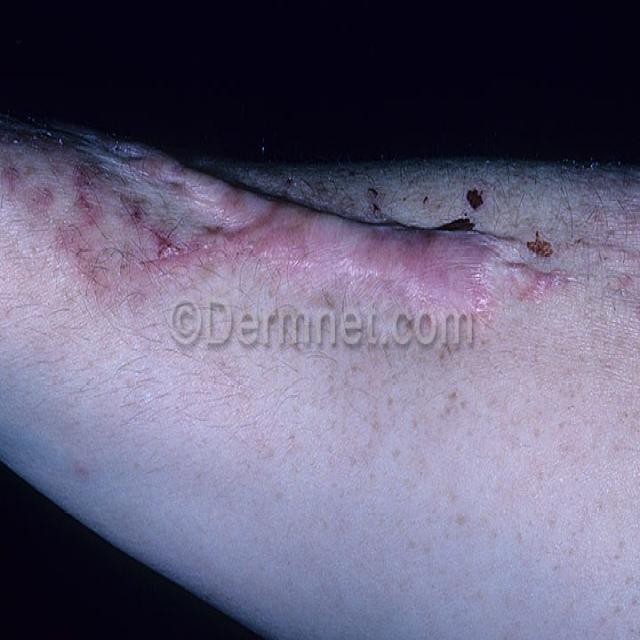Eczema: (0, 132, 588, 305)
